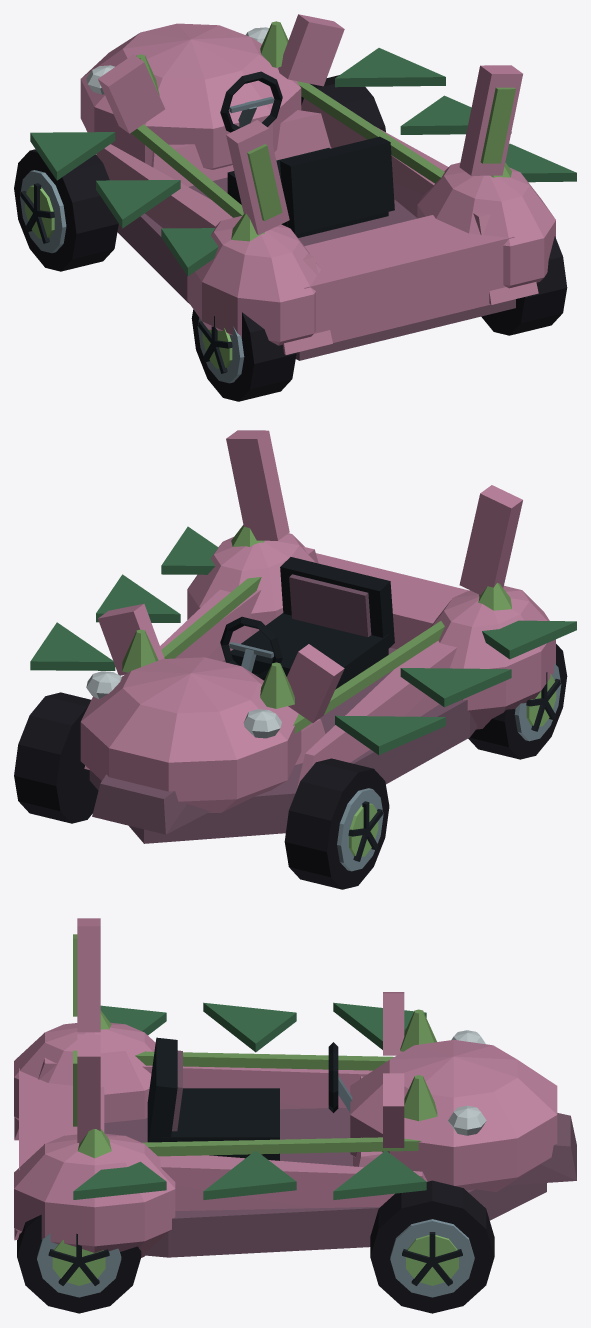
Rendered from kart.glb.
3 views of the same model, one above another, from view 1: azimuth 30°, elevation 25°; view 2: azimuth 150°, elevation 25°; view 3: azimuth 270°, elevation 25° (orthographic).
Visible parts, largest first — view 1: identity-beast-beast-sculpted-prow-and-haunches, identity-beast-motif-leaves, identity-beast-driver-cockpit, identity-beast-motif-ears, wheel-front-left, wheel-rear-left, wheel-rear-right, wheel-front-right, identity-beast-motif-gems; view 2: identity-beast-beast-sculpted-prow-and-haunches, identity-beast-motif-leaves, identity-beast-driver-cockpit, wheel-front-left, identity-beast-motif-ears, wheel-front-right, wheel-rear-left, identity-beast-motif-gems; view 3: identity-beast-beast-sculpted-prow-and-haunches, wheel-front-right, identity-beast-motif-leaves, identity-beast-driver-cockpit, wheel-rear-right, identity-beast-motif-ears, identity-beast-motif-gems.
Part boxes in pixels (x1=…): identity-beast-beast-sculpted-prow-and-haunches: x1=80, y1=14, x2=555, y2=360; identity-beast-motif-leaves: x1=30, y1=48, x2=576, y2=276; identity-beast-driver-cockpit: x1=220, y1=71, x2=394, y2=237; identity-beast-motif-ears: x1=226, y1=65, x2=522, y2=234; wheel-front-left: x1=14, y1=149, x2=118, y2=271; wheel-rear-left: x1=191, y1=309, x2=296, y2=401; wheel-rear-right: x1=481, y1=236, x2=567, y2=335; wheel-front-right: x1=301, y1=75, x2=385, y2=131; identity-beast-motif-gems: x1=231, y1=162, x2=511, y2=241; identity-beast-beast-sculpted-prow-and-haunches: x1=80, y1=533, x2=555, y2=843; identity-beast-motif-leaves: x1=30, y1=526, x2=576, y2=754; identity-beast-driver-cockpit: x1=220, y1=557, x2=394, y2=689; wheel-front-left: x1=284, y1=758, x2=389, y2=889; identity-beast-motif-ears: x1=226, y1=430, x2=522, y2=594; wheel-front-right: x1=14, y1=692, x2=98, y2=823; wheel-rear-left: x1=468, y1=644, x2=567, y2=759; identity-beast-motif-gems: x1=231, y1=525, x2=511, y2=610; identity-beast-beast-sculpted-prow-and-haunches: x1=14, y1=992, x2=576, y2=1257; wheel-front-right: x1=370, y1=1180, x2=494, y2=1313; identity-beast-motif-leaves: x1=73, y1=1002, x2=426, y2=1199; identity-beast-driver-cockpit: x1=147, y1=1037, x2=352, y2=1160; wheel-rear-right: x1=17, y1=1214, x2=141, y2=1313; identity-beast-motif-ears: x1=73, y1=918, x2=100, y2=1142; identity-beast-motif-gems: x1=78, y1=1010, x2=111, y2=1158.
Size of the model in its own units: 2.3 by 1.46 by 2.9.
